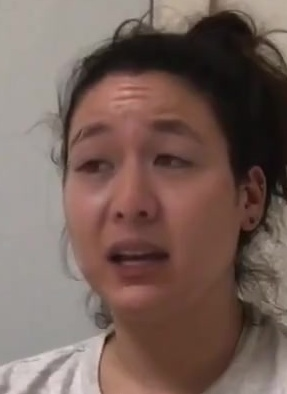eb_f: (66, 115, 211, 178)
